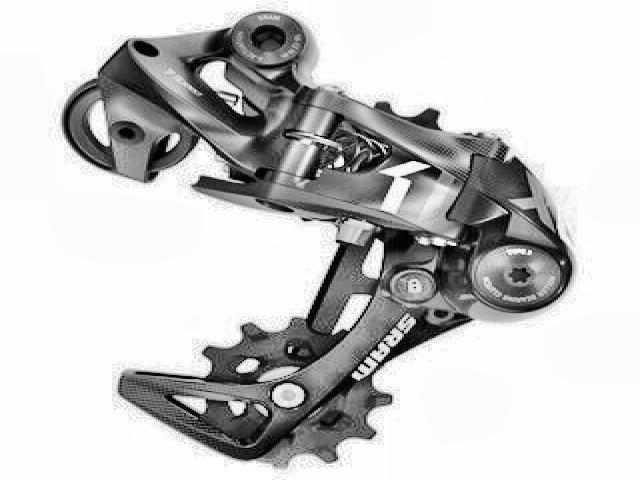rear_derailleur: (61, 8, 578, 473)
